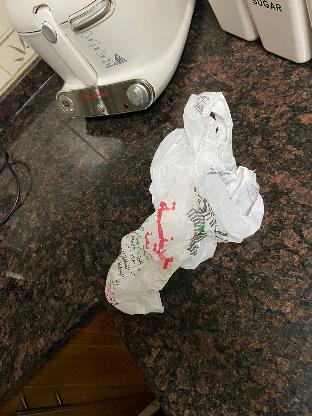Plastic Bag: (106, 91, 264, 315)
